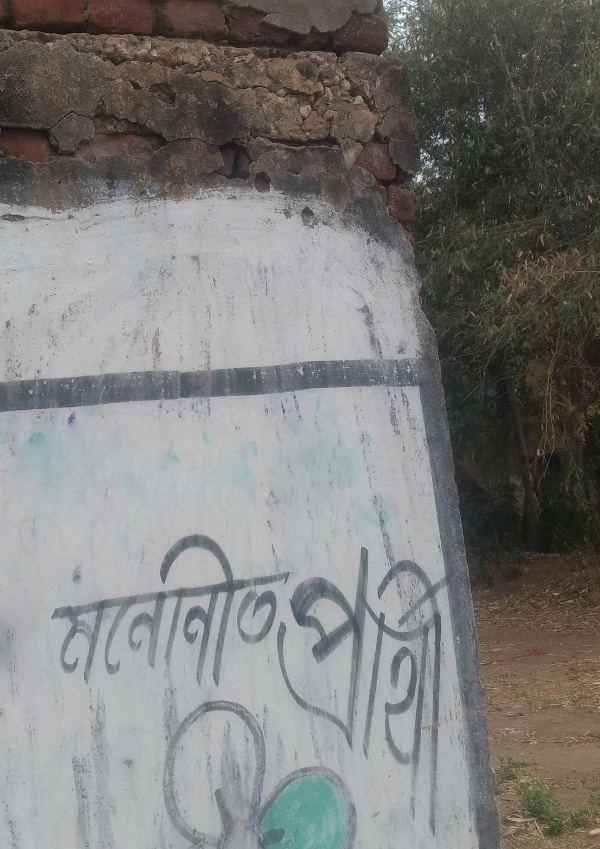text: (305, 542, 320, 848), (321, 542, 336, 848), (337, 542, 352, 848), (353, 542, 368, 848), (369, 542, 384, 848), (385, 542, 400, 848), (401, 542, 416, 848), (417, 542, 432, 848), (433, 542, 448, 848), (49, 523, 64, 699), (65, 523, 80, 699), (81, 523, 96, 699), (97, 523, 112, 699), (113, 523, 128, 699), (129, 523, 144, 699), (145, 523, 160, 699), (161, 523, 176, 699), (177, 523, 192, 699), (193, 523, 208, 699), (209, 523, 224, 699), (225, 523, 240, 699), (241, 523, 256, 699), (257, 523, 272, 699), (273, 523, 288, 699), (289, 523, 304, 699), (299, 542, 304, 848), (449, 542, 452, 848), (305, 523, 307, 699)
